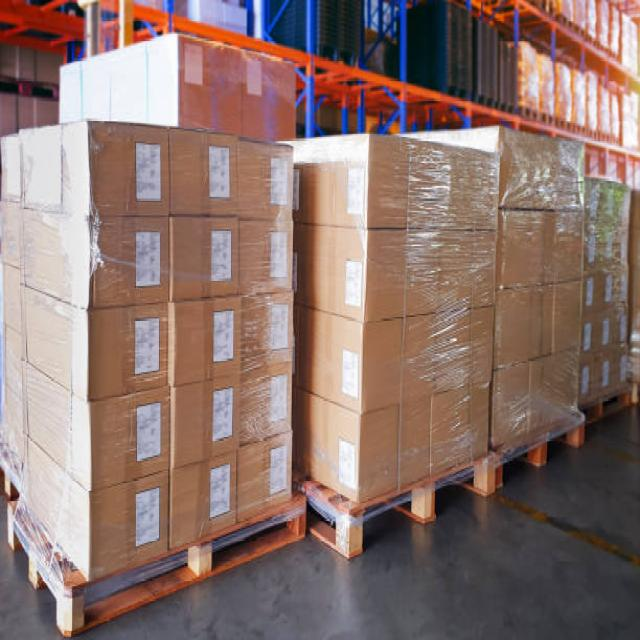Wooden-Pallets: (0, 495, 305, 640), (310, 449, 496, 566), (495, 412, 590, 498)
